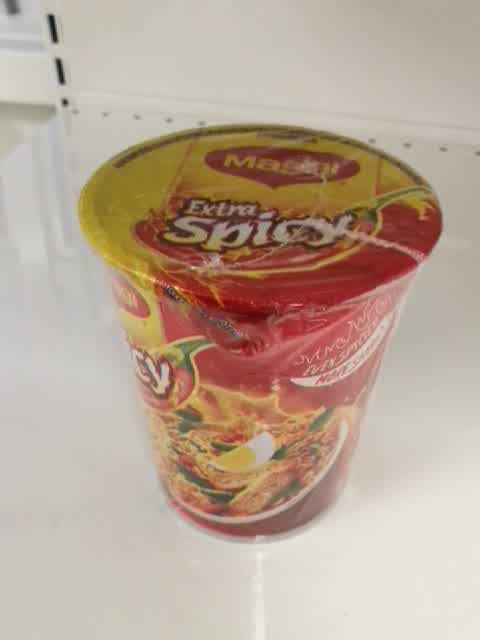maggi: (77, 121, 444, 545)
